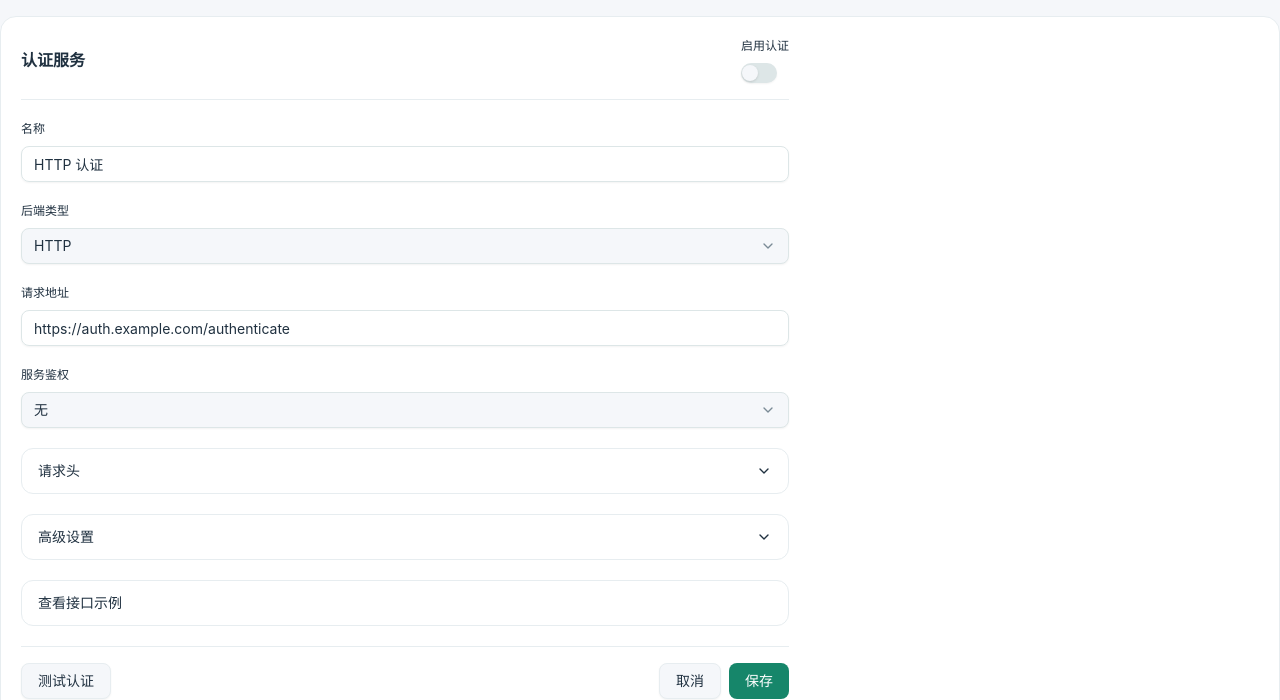
Test: HTTP authentication and authorization dashboard › uses basic fields and collapsed tuning, with no editable body/internal storage controls
(page scrolled)
Check: the field labelled "请求地址" is shown, box [21, 310, 789, 346]
Check: the field labelled "名称" holds "HTTP 认证", box [21, 146, 789, 182]
Click the button "高级设置" at (66, 536), box [22, 515, 788, 559]
(page scrolled)
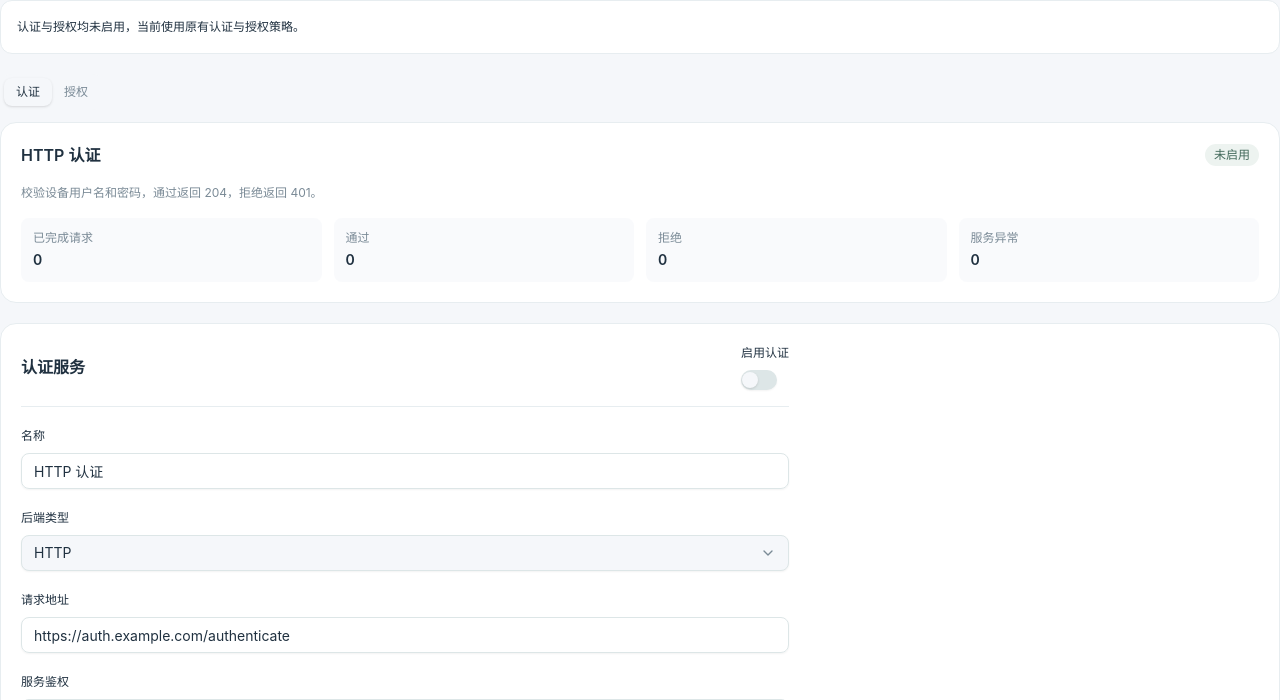
Check: the field labelled "决策缓存时间（秒）" is not shown
Press the mouse on the tab "授权" at (76, 92), box [52, 78, 100, 106]
(page scrolled)
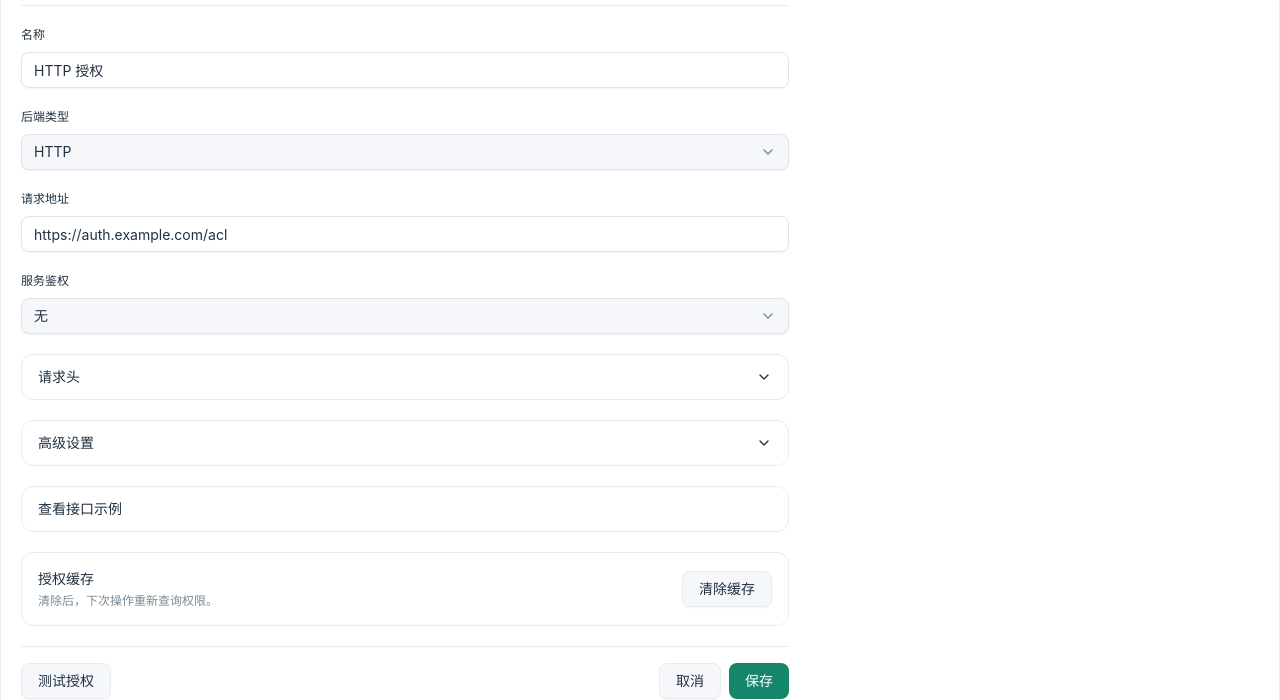
Check: the field labelled "请求地址" is shown, box [21, 216, 789, 252]
Click the button "高级设置" at (66, 442), box [22, 421, 788, 465]
(page scrolled)
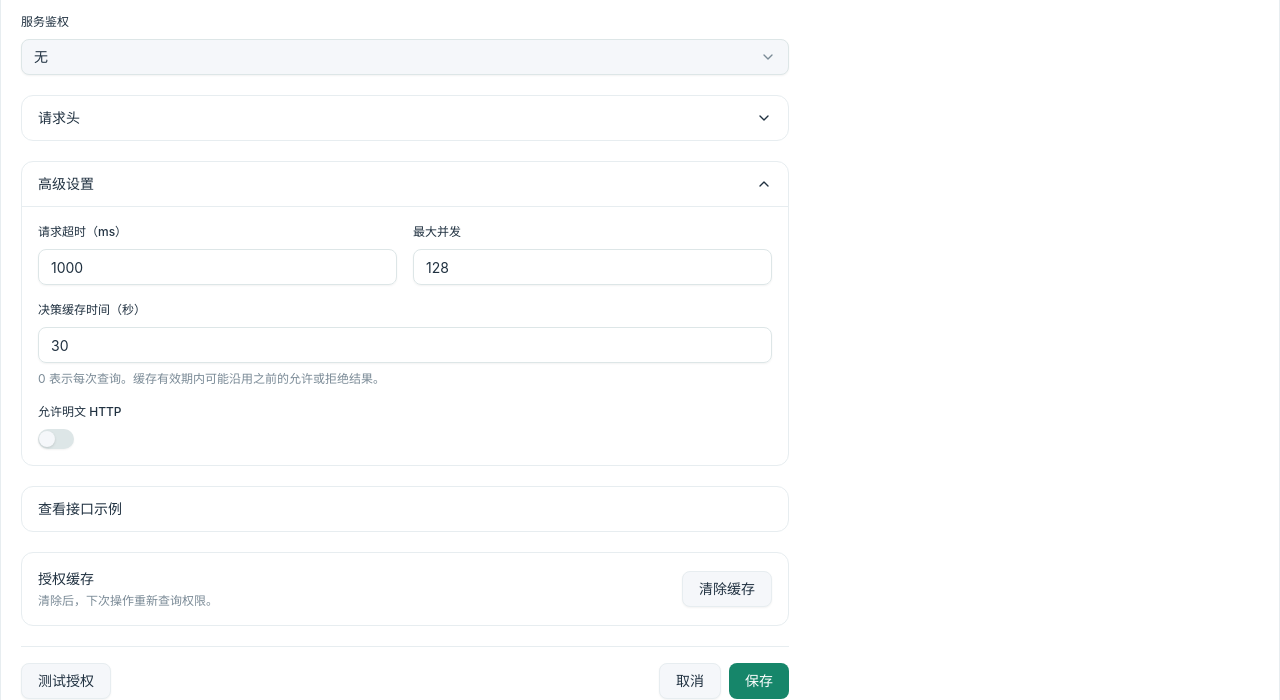
Check: the button "清除缓存" is shown, box [682, 571, 772, 607]
Check: the number field labelled "决策缓存时间（秒）" holds "30", box [38, 327, 772, 363]
